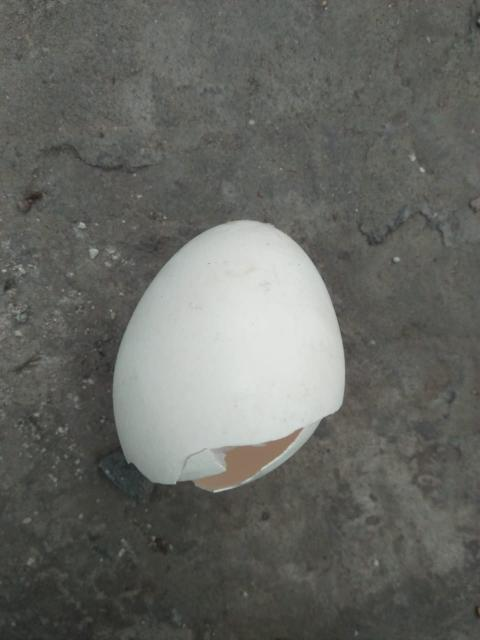Roto: (111, 218, 346, 493)
